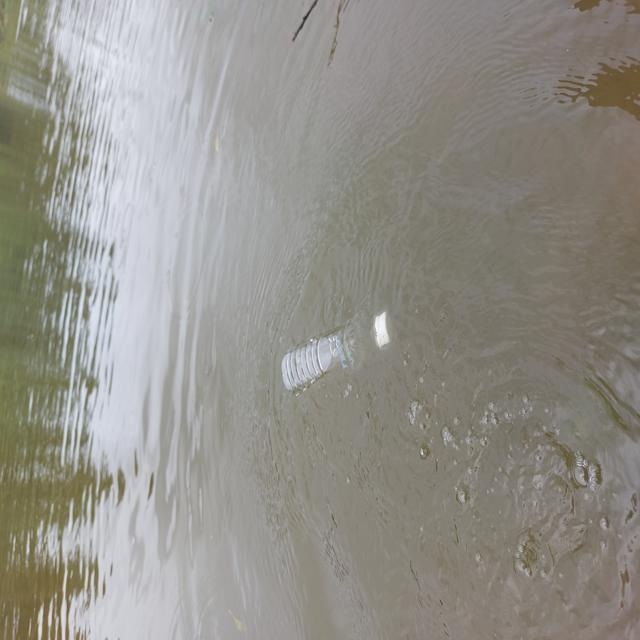waterbottle: (278, 315, 403, 389)
